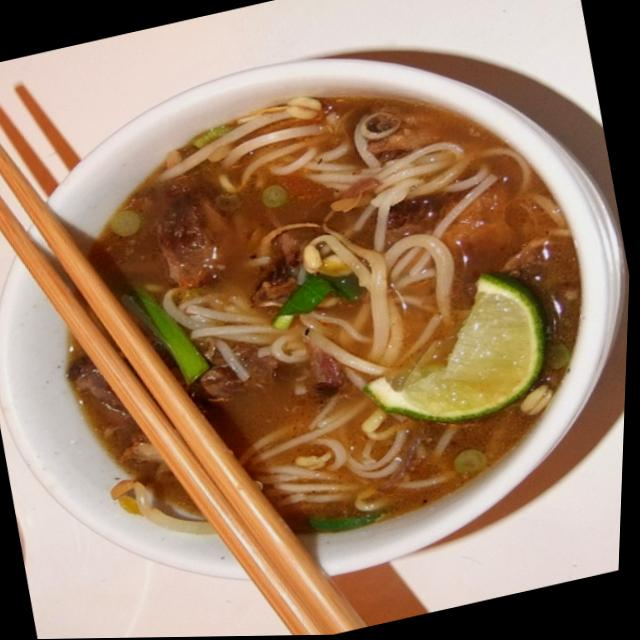汤锅炖物: (25, 55, 610, 581)
